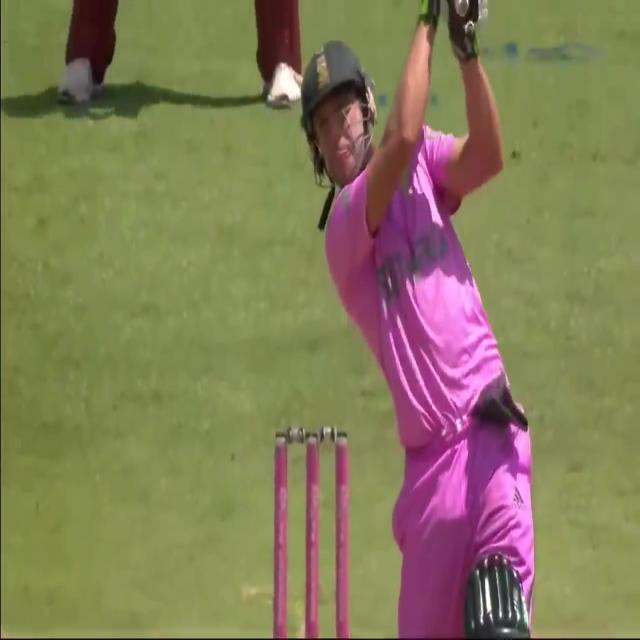Ball: (309, 0, 538, 638)
